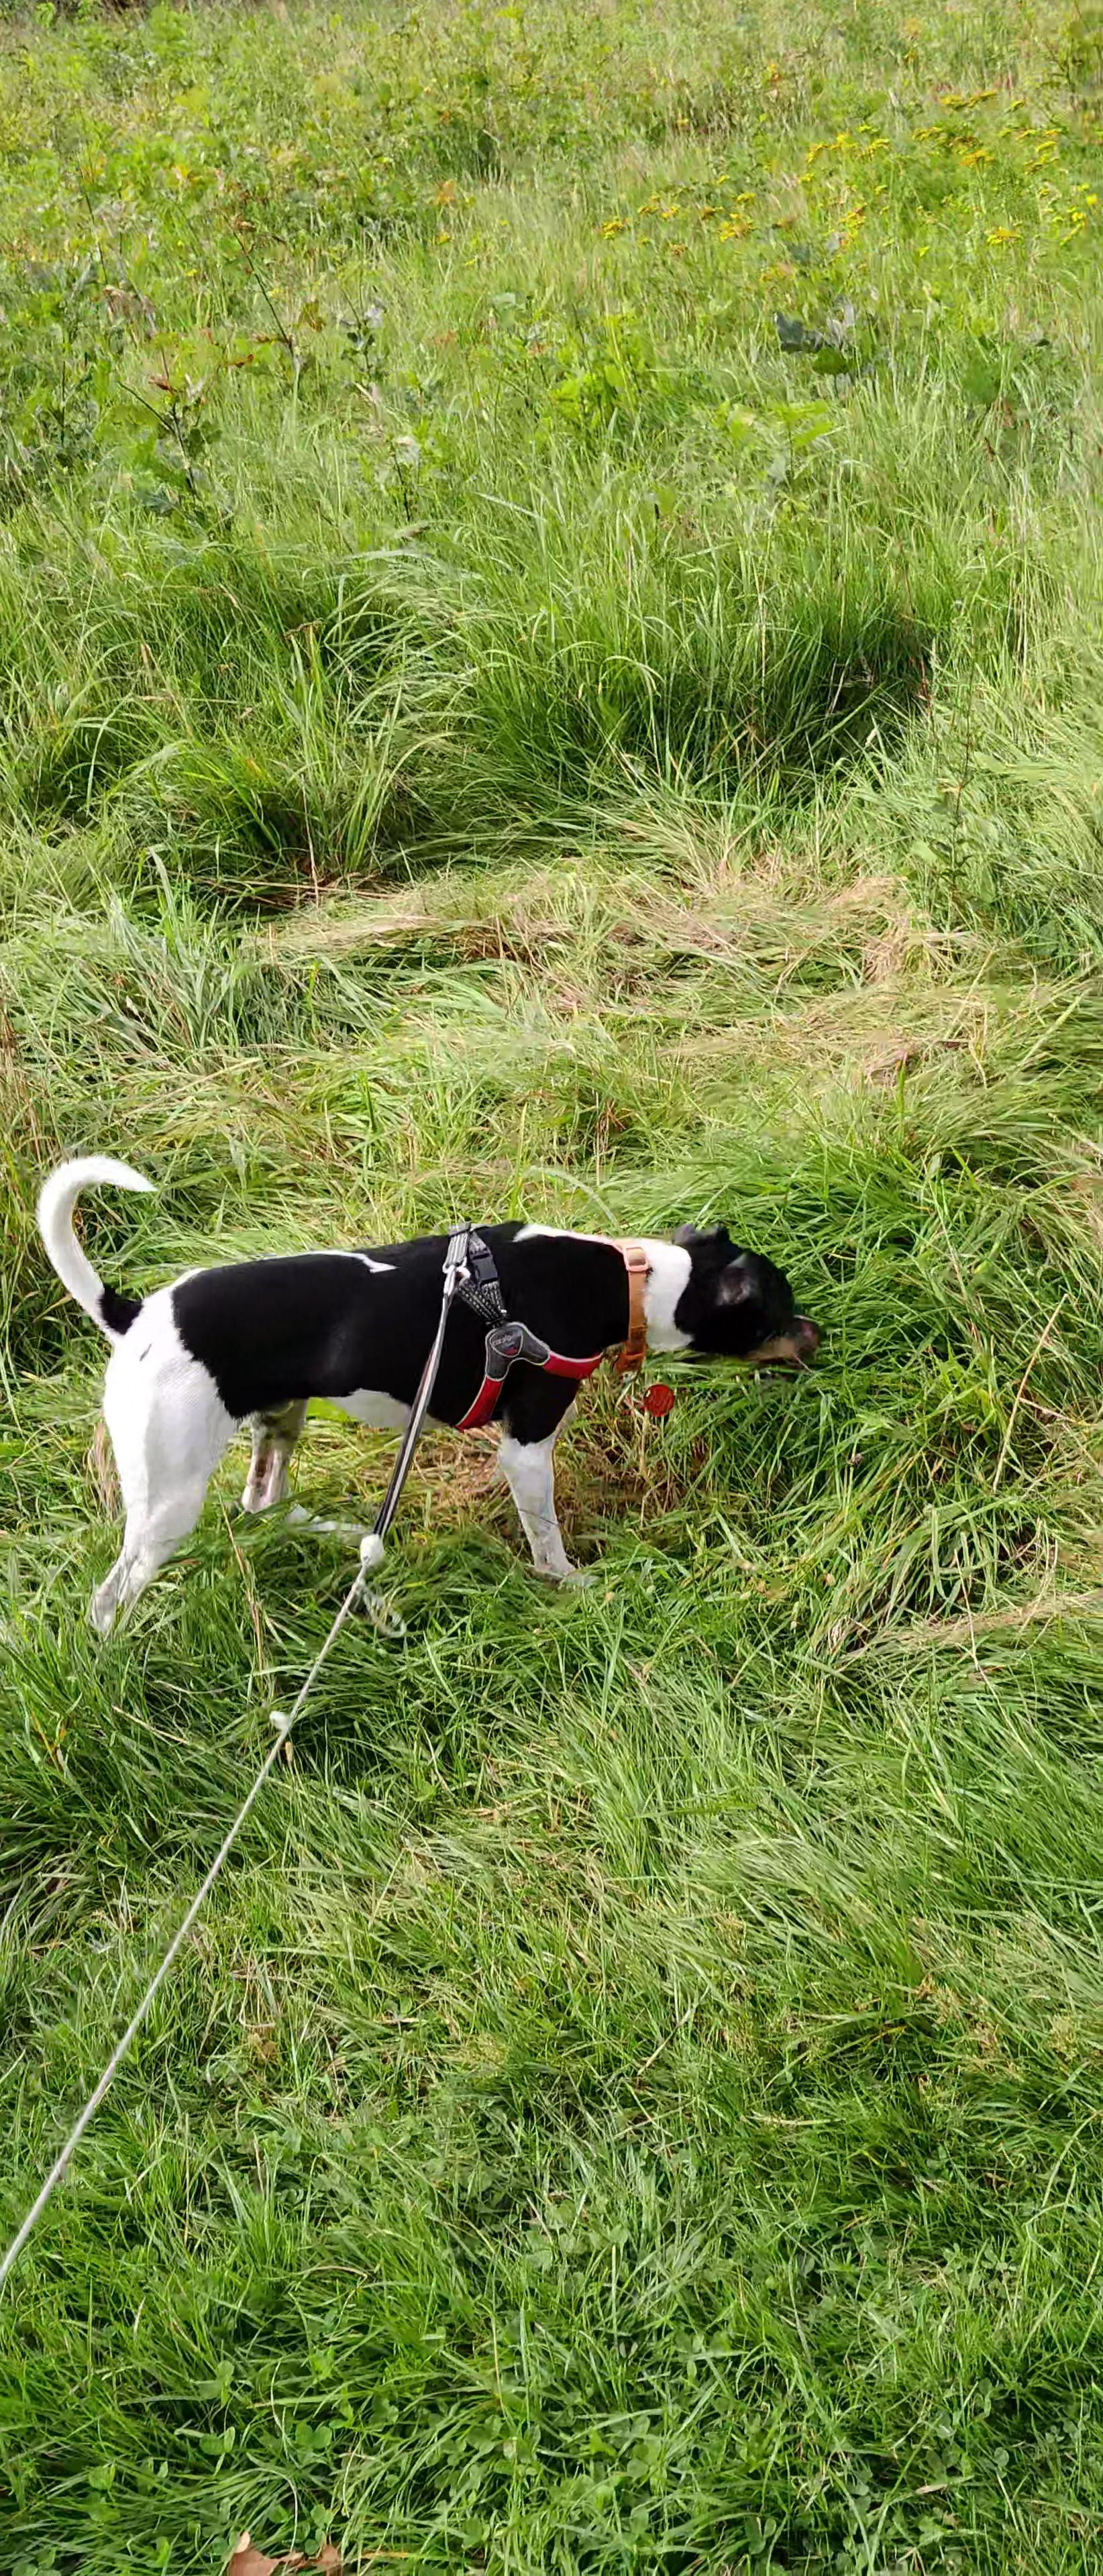Dog: (21, 1148, 832, 1669)
